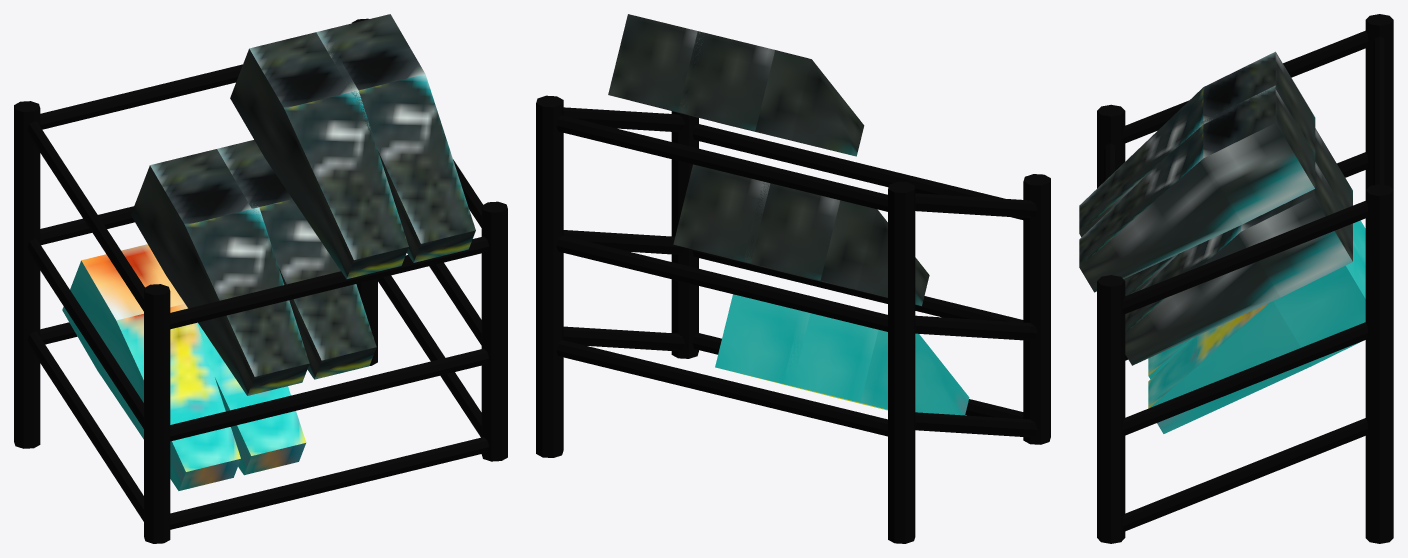
The model's file is ShoeRack.fbx.
3 views of the same model, side by side, from view 1: azimuth 30°, elevation 25°; view 2: azimuth 150°, elevation 25°; view 3: azimuth 270°, elevation 25° (orthographic). The views are drawn at different scales.
Parts seen in each view (by area): view 1: ShoeRack; view 2: ShoeRack; view 3: ShoeRack.
Boxes of the visible parts, box(x1,y1,x2,y2) form: ShoeRack: box(14, 14, 507, 543); ShoeRack: box(536, 14, 1050, 543); ShoeRack: box(1079, 14, 1393, 543).
Bounding box in the file's own units: 225 × 232 × 165.
